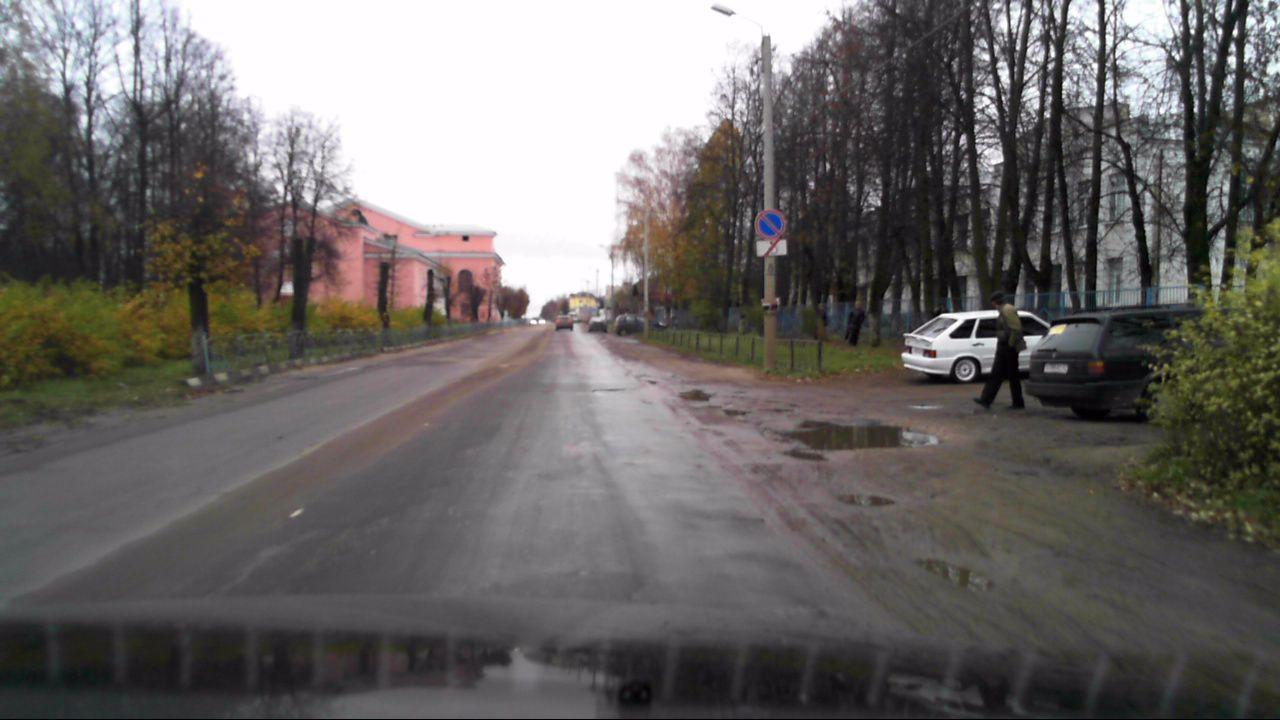3_28: (752, 208, 790, 238)
8_18: (757, 240, 787, 256)
